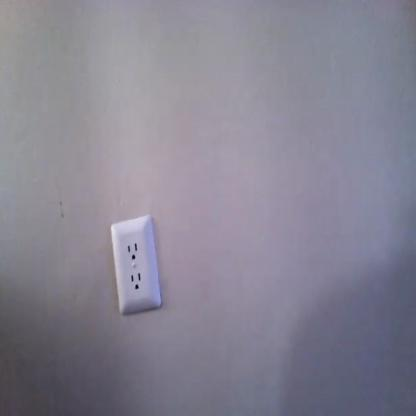OUTLET: (108, 215, 164, 311)
